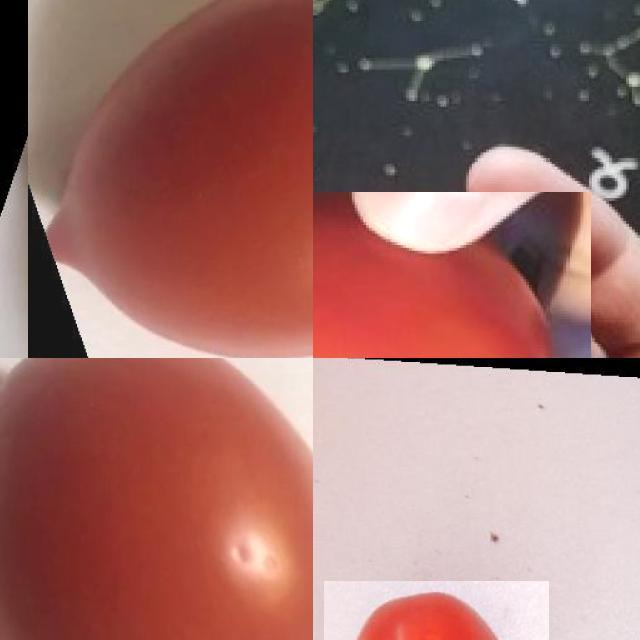Fresh Tomato: (28, 0, 313, 358), (0, 358, 313, 640), (313, 192, 590, 358)
Rotten Tomato: (324, 581, 548, 640)
